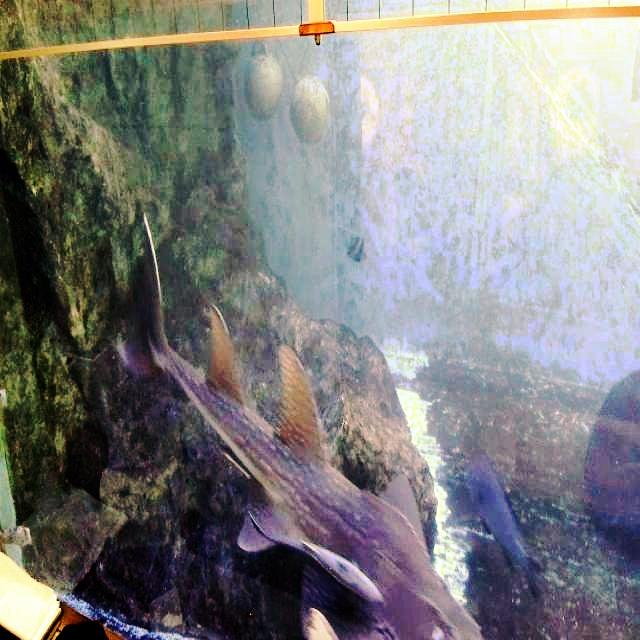Mud skate: (101, 191, 494, 640)
angelfish: (340, 219, 380, 275)
other black fish: (447, 448, 578, 616)
